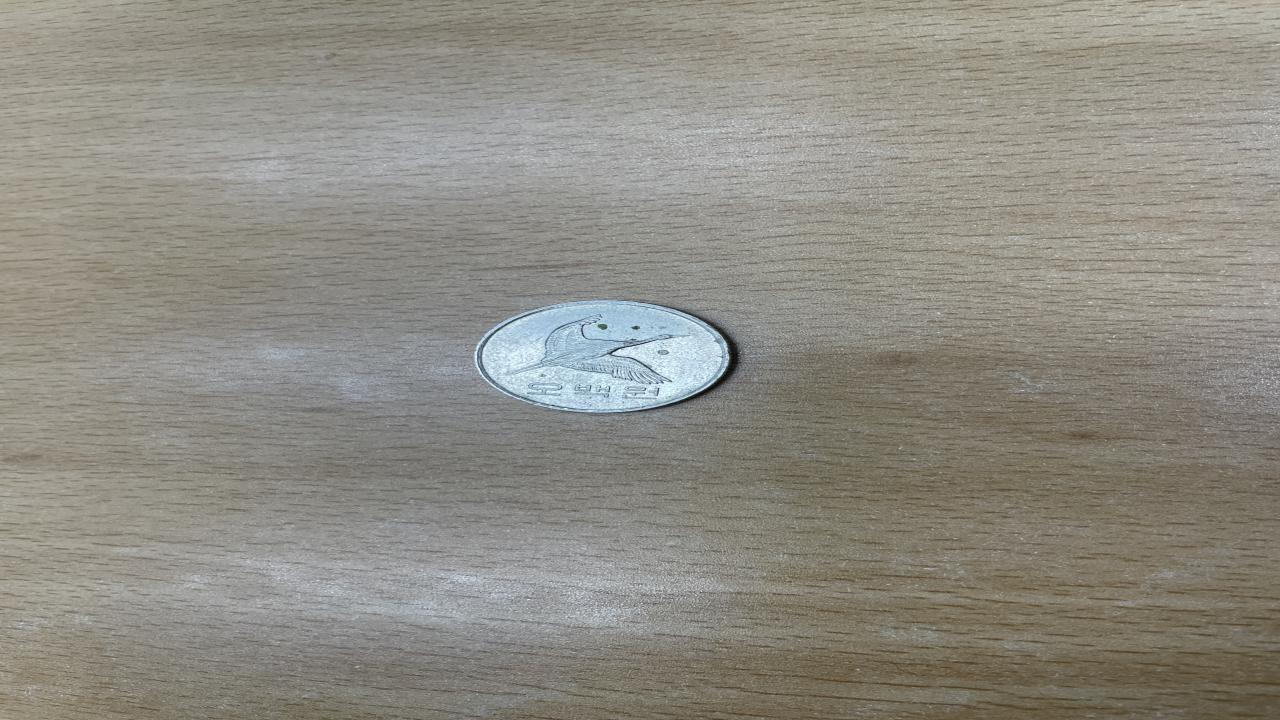coin: (468, 299, 739, 414)
